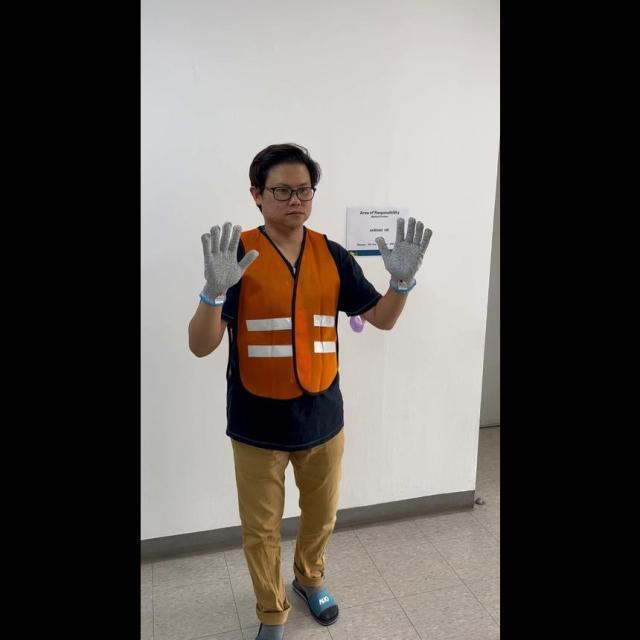gloved_hand: (196, 216, 257, 304), (372, 211, 431, 289)
